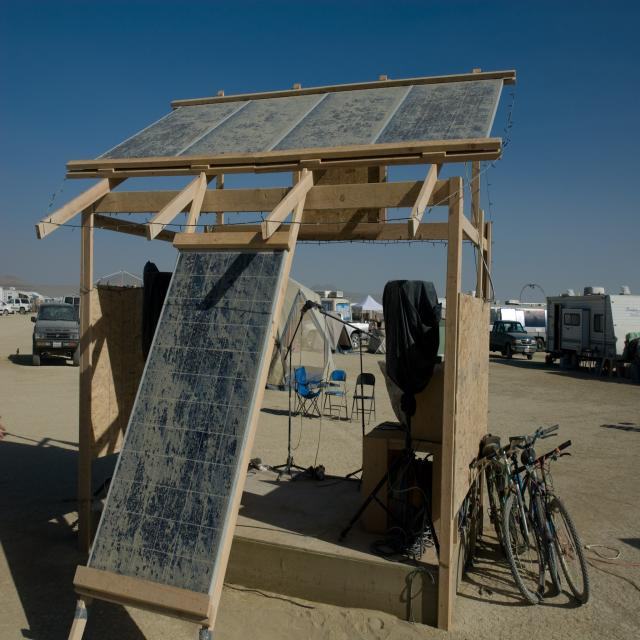dust-solar-panel: (88, 242, 286, 607), (95, 77, 506, 163)
